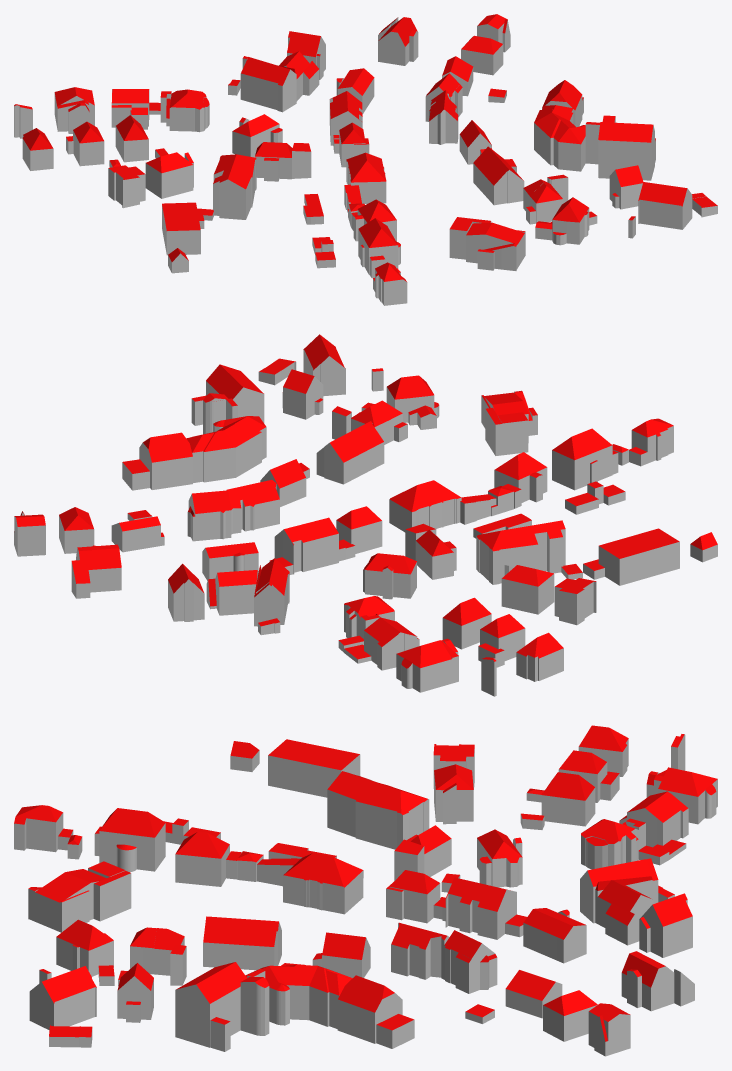
3 views of the same model, one above another, from view 1: azimuth 30°, elevation 25°; view 2: azimuth 150°, elevation 25°; view 3: azimuth 270°, elevation 25° (orthographic). The views are drawn at different scales.
Bounding box in the file's own units: 198 × 18.42 × 198.
